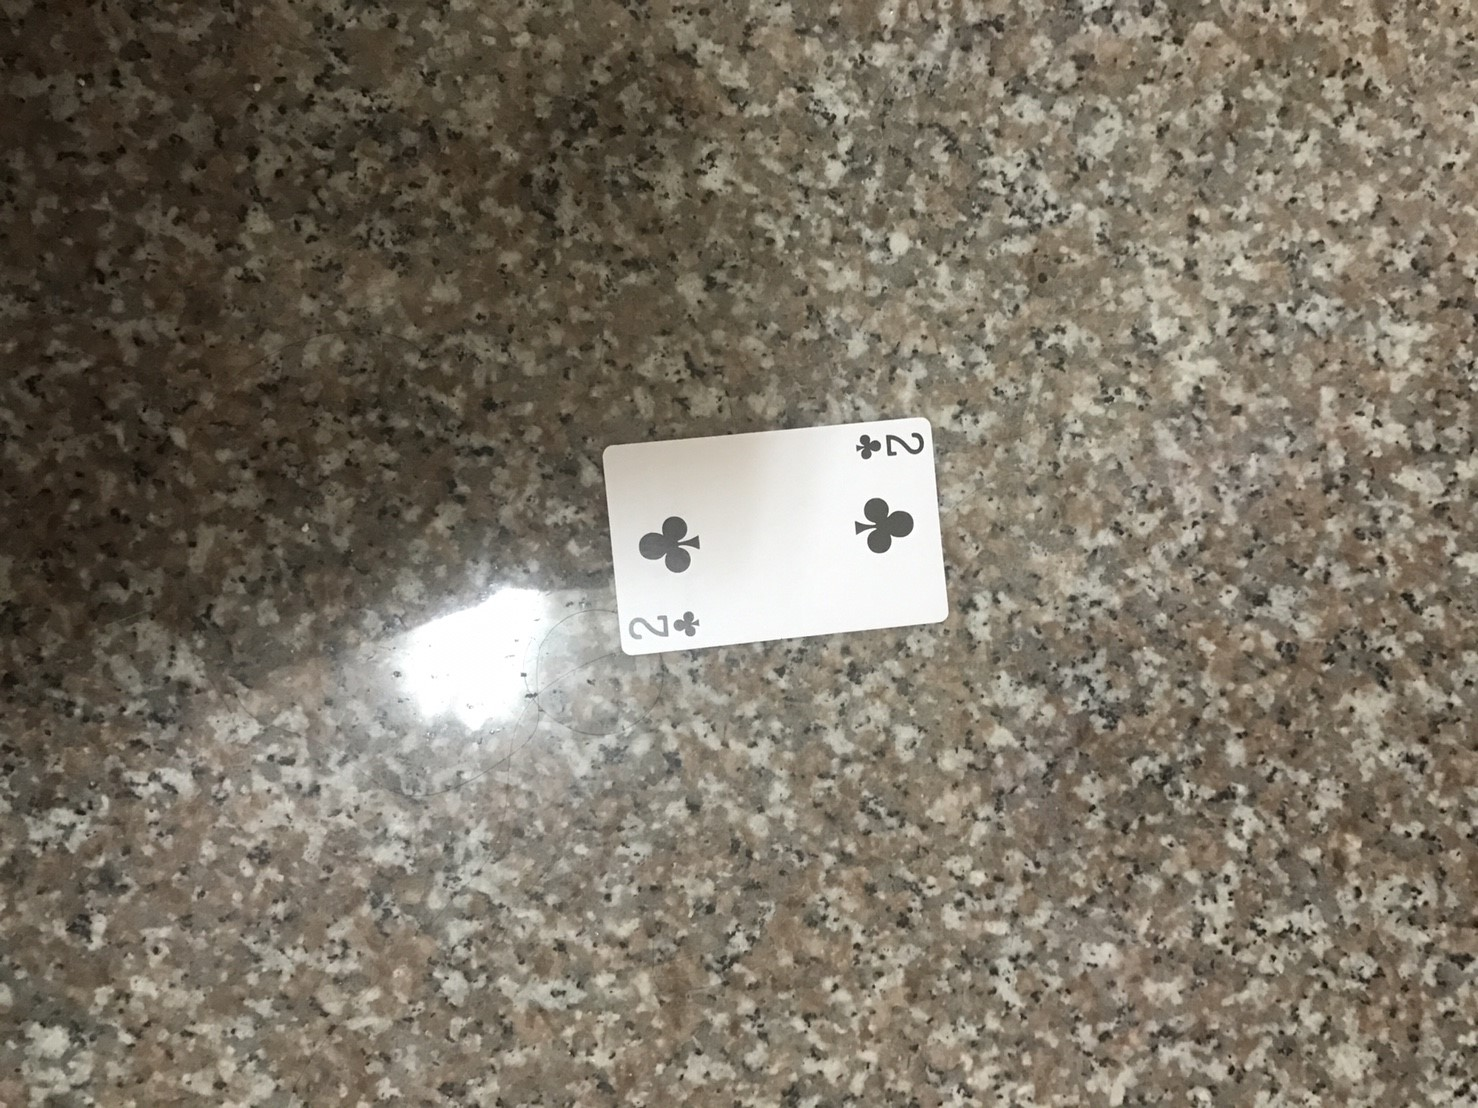clubs: (635, 511, 703, 575), (853, 490, 914, 561), (850, 429, 882, 466), (673, 608, 705, 640)
